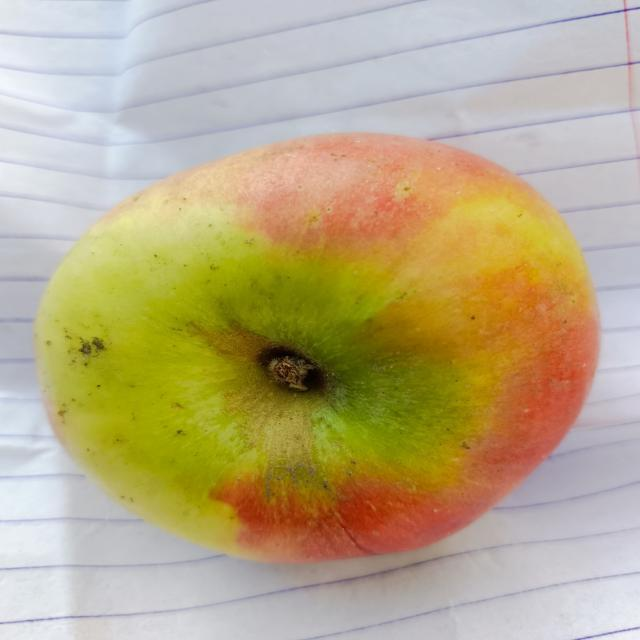Fresh Apple: (36, 125, 602, 559)
